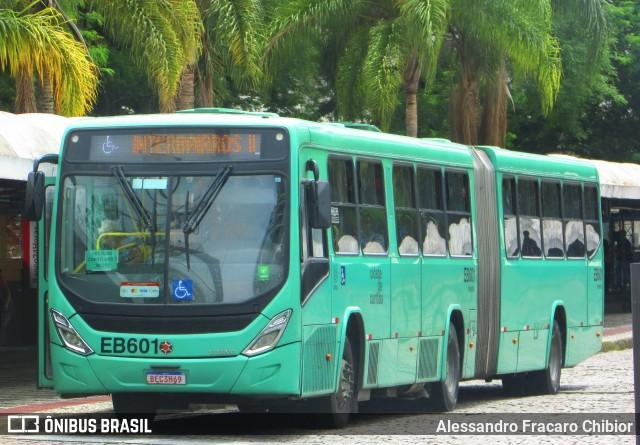INTERBAIRROS II: (129, 131, 260, 157)
